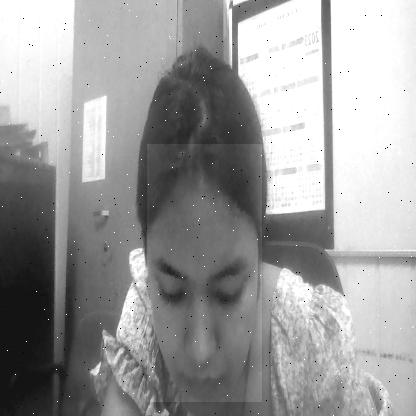Normal: (147, 144, 262, 402)
